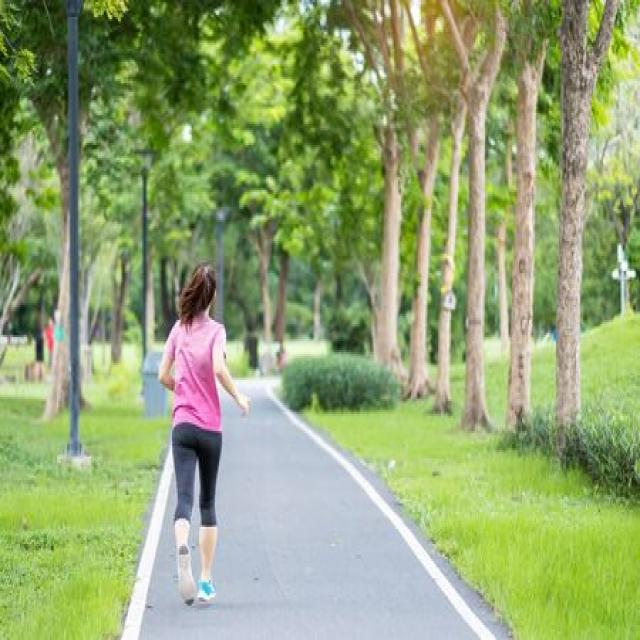Person: (158, 264, 248, 608)
